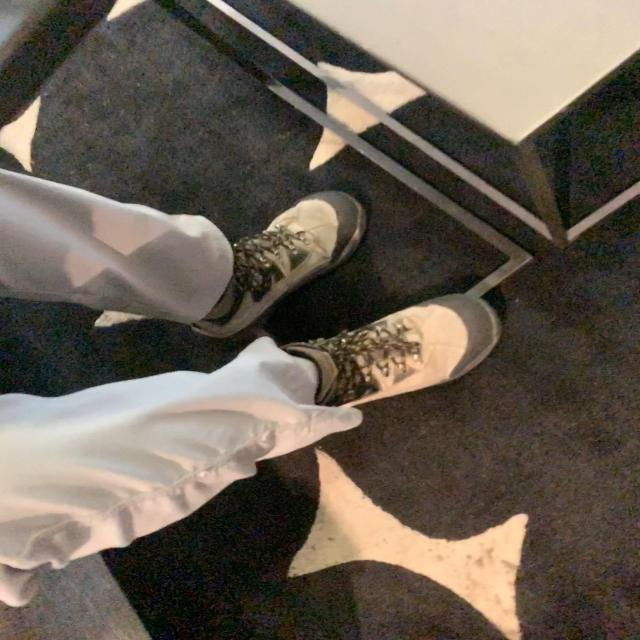shoe: (193, 190, 369, 342), (313, 296, 501, 408)
